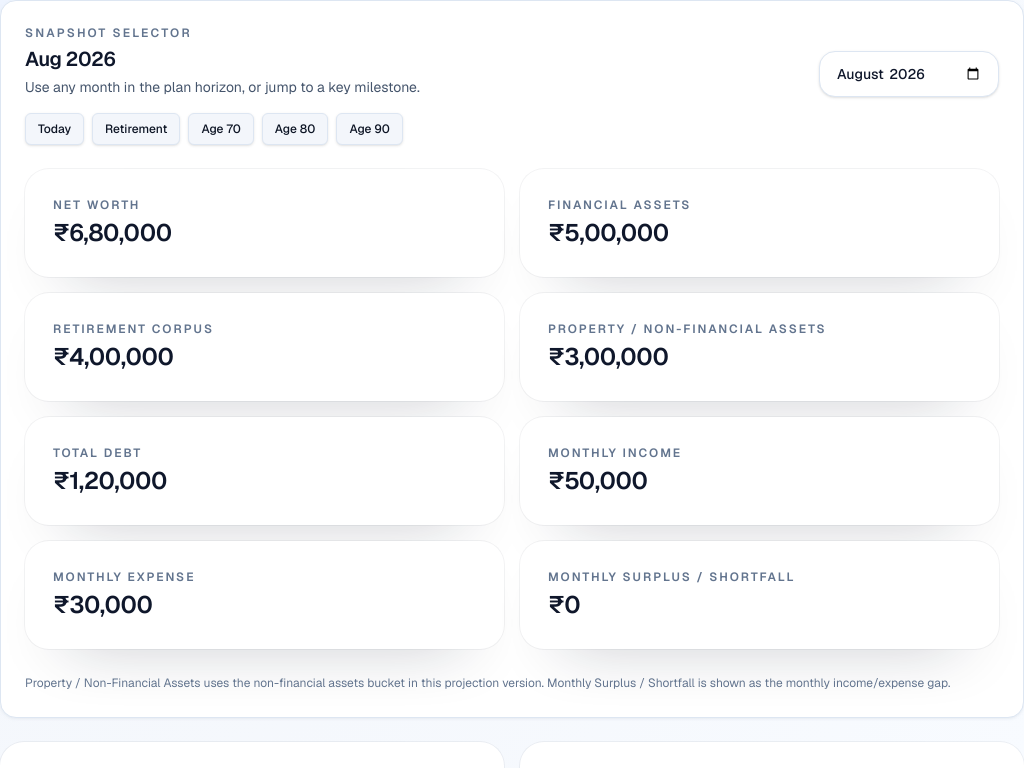
Planning Fixed Projection Page › keeps existing locked fixed projection in read-only mode and supports preview selector jumps
Click the button "Retirement".
click(136, 129)  # box [92,113,180,145]
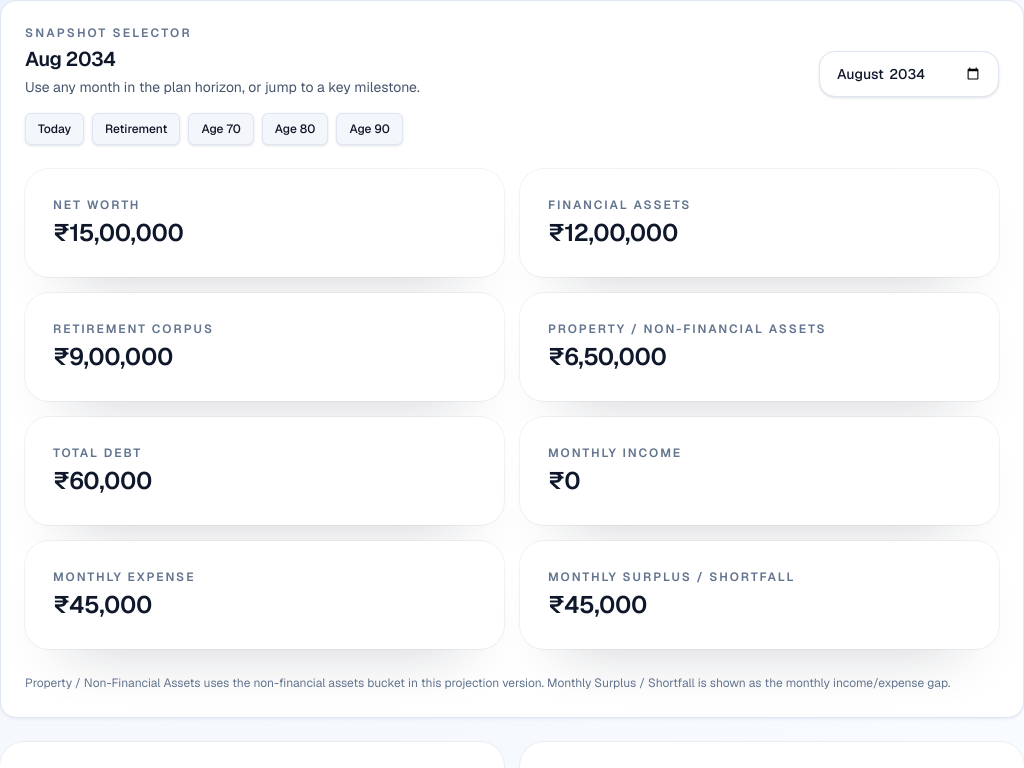
Now the heading "Aug 2034" is shown, box [25,46,116,72]
